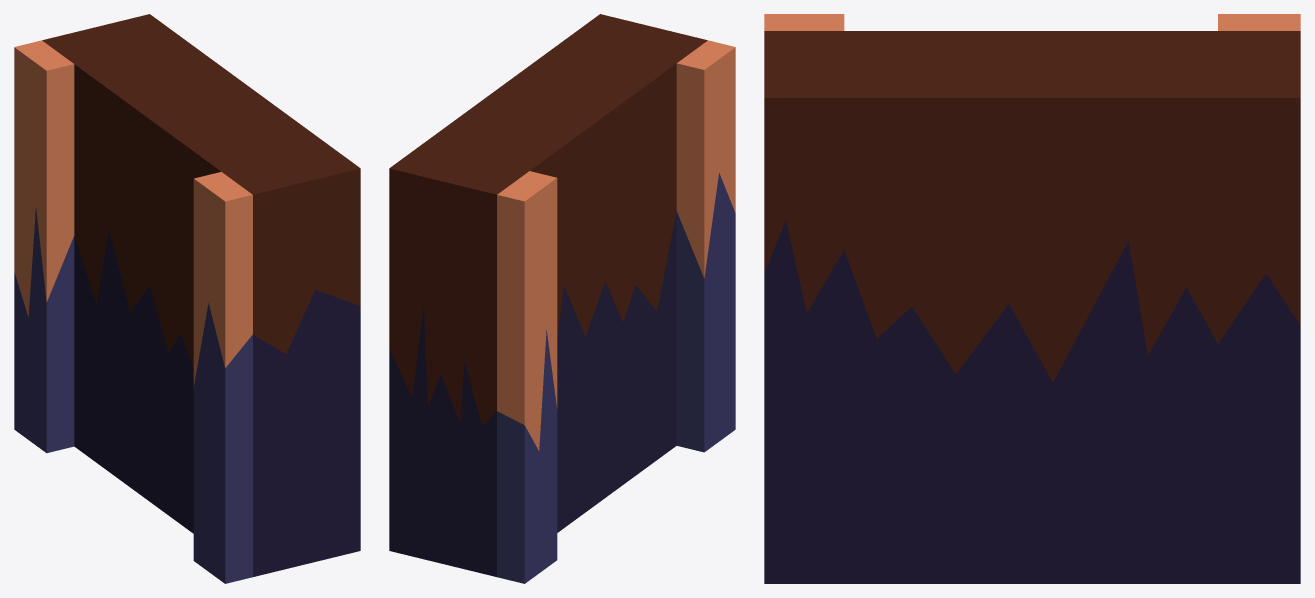
The model's file is Road_long_HALF_ill.One.fbx.
The picture shows the model from 3 angles, left to right: view 1: azimuth 30°, elevation 25°; view 2: azimuth 150°, elevation 25°; view 3: azimuth 270°, elevation 25°; orthographic projection. The views are drawn at different scales.
Visible parts, largest first — view 1: Cube.012; view 2: Cube.012; view 3: Cube.012.
Part boxes in pixels (x1,y1,x2,y2): Cube.012: (14,14,360,583); Cube.012: (389,14,735,583); Cube.012: (764,14,1300,583).
Size of the model in its own units: 400 by 400 by 148.
